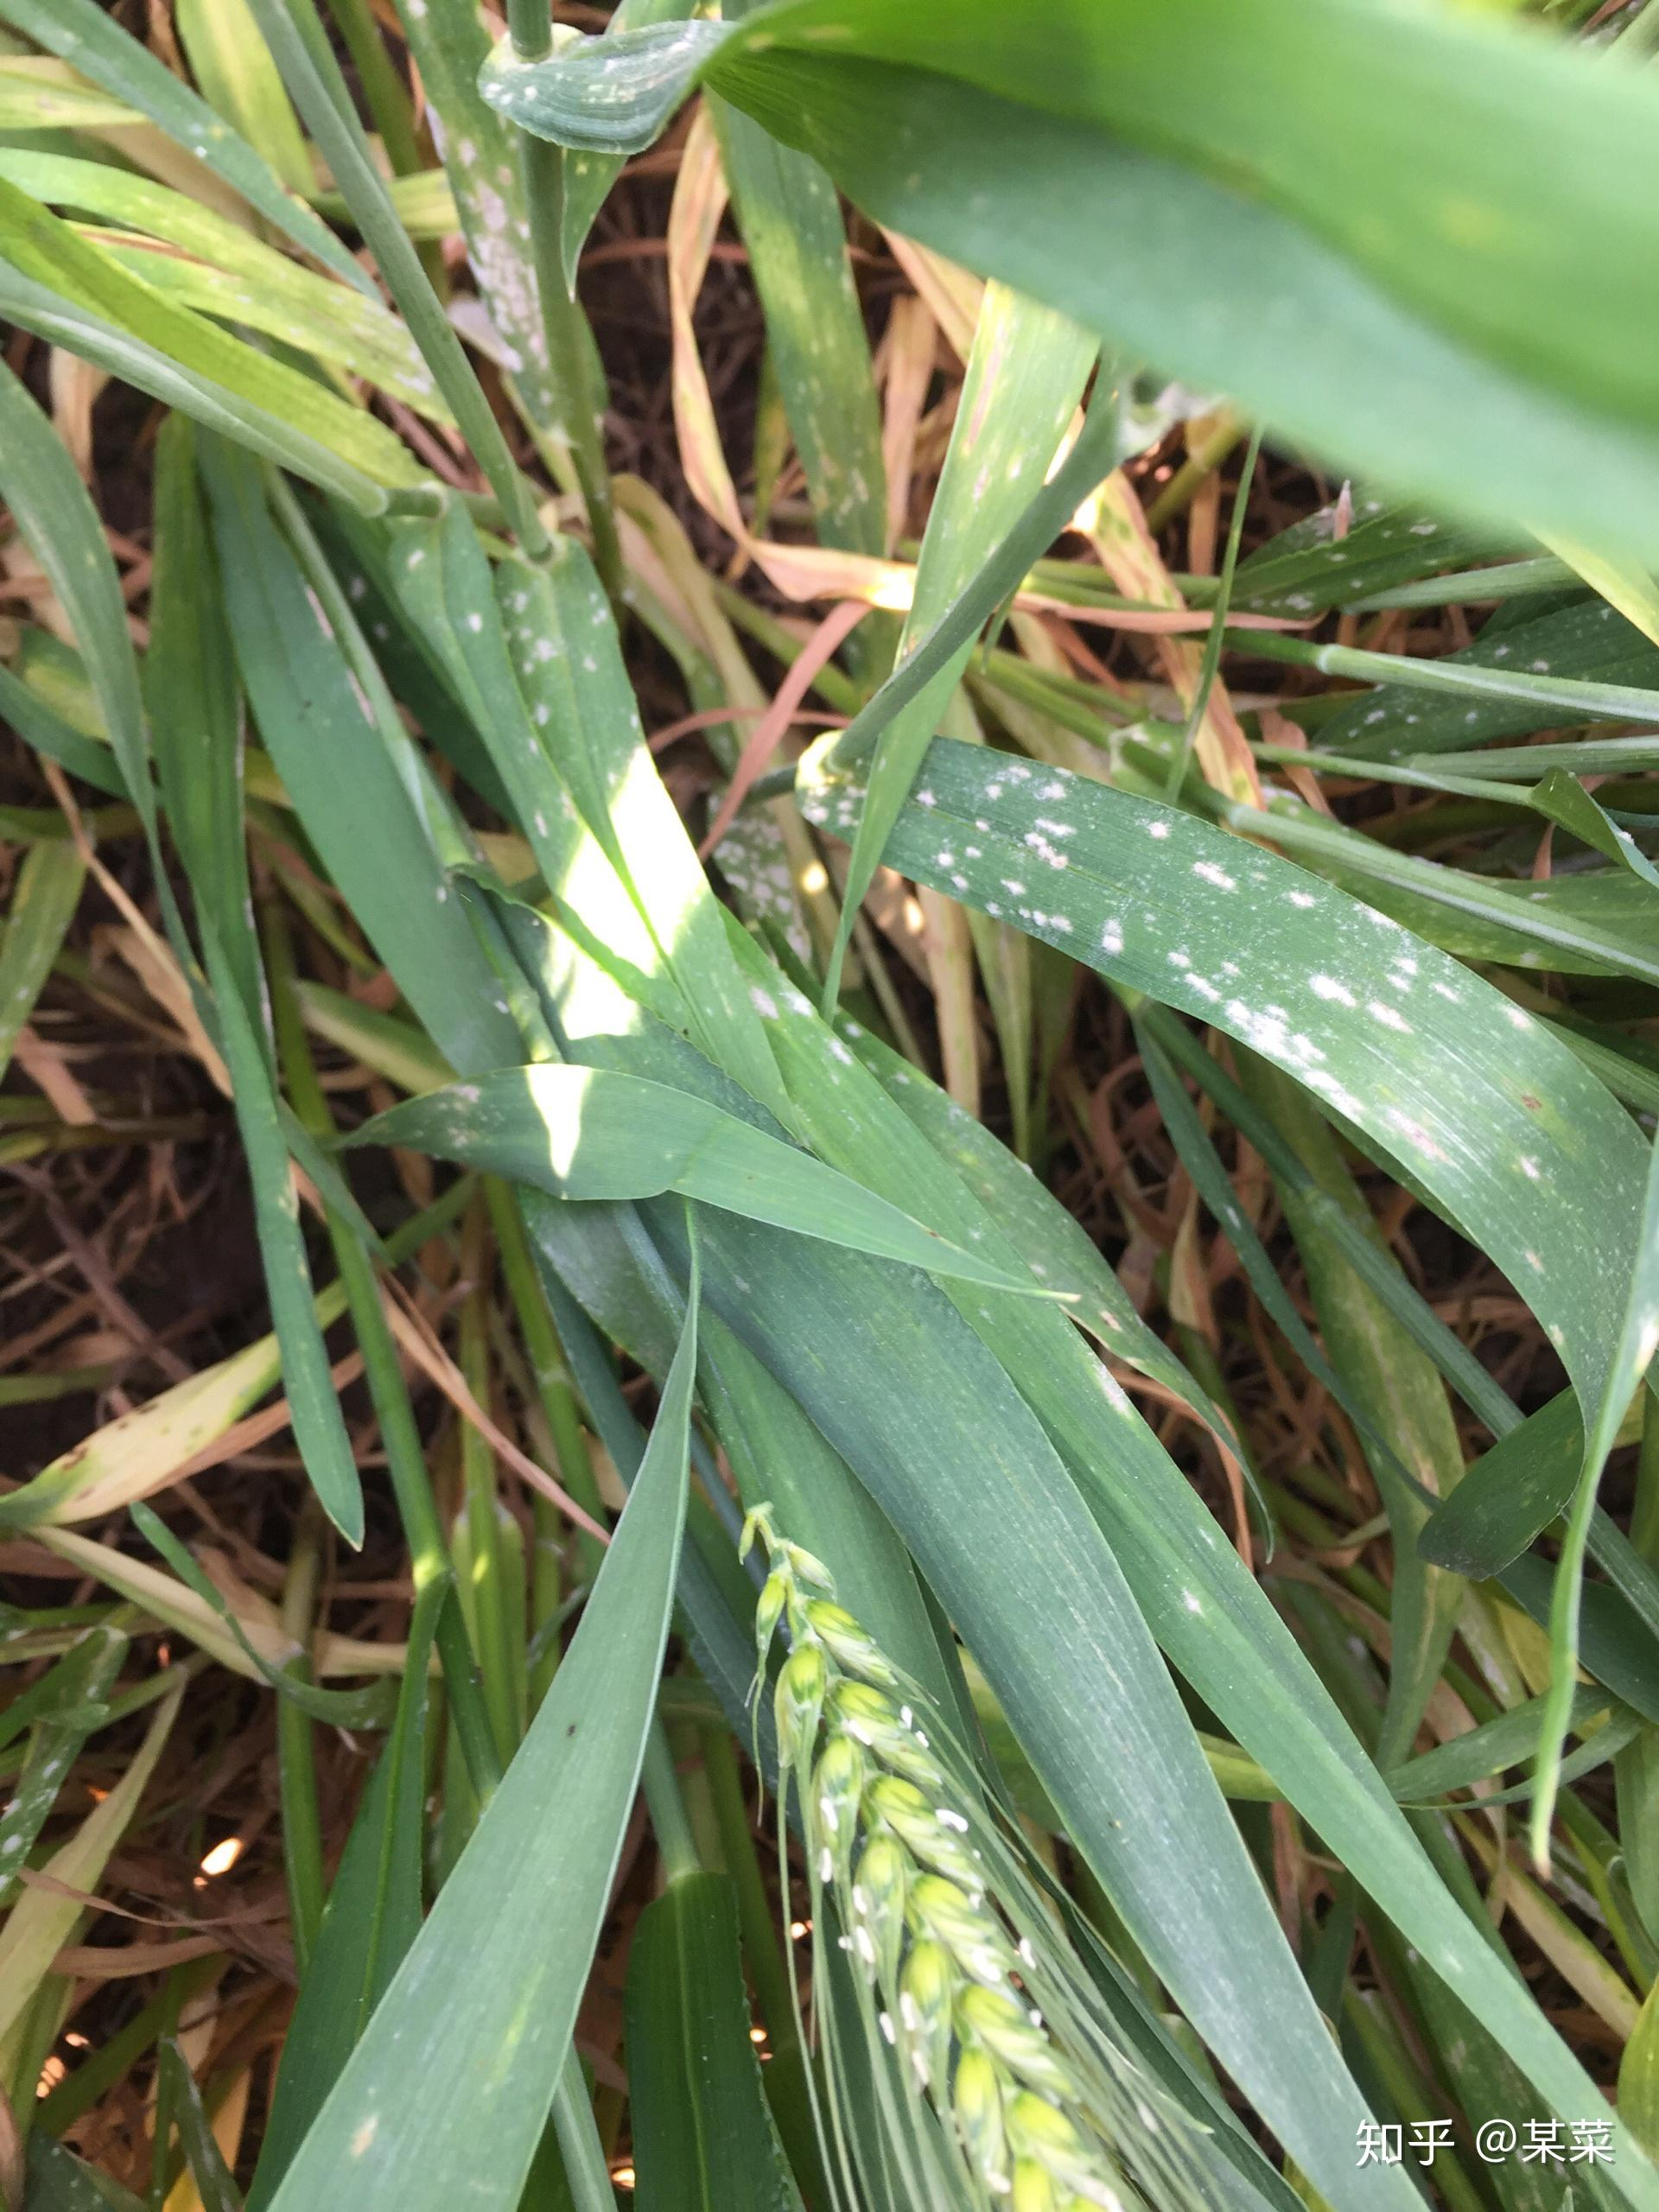Powdery Mildew: (897, 738, 1532, 1221)
